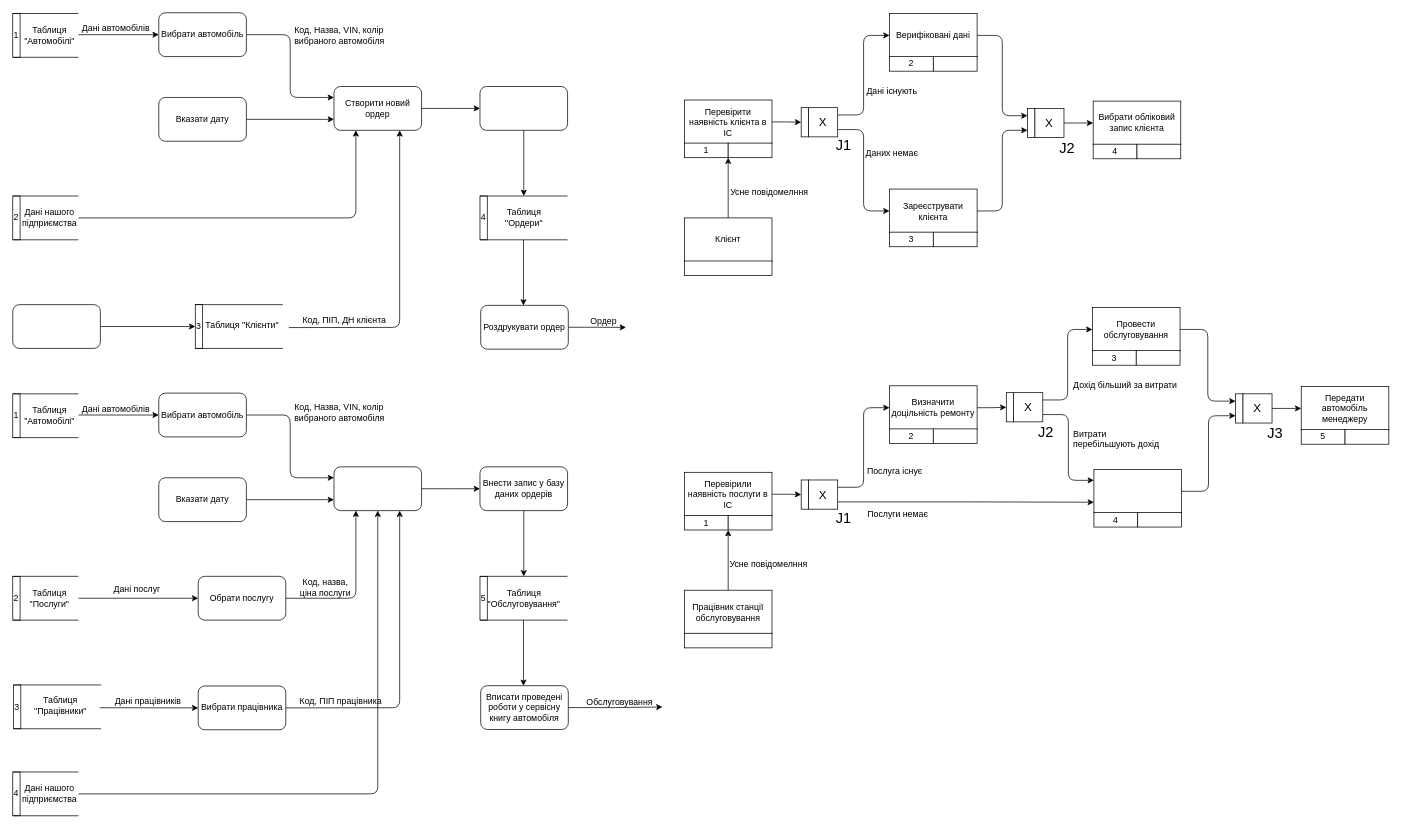
This 1402x829 diagram has some shape labels left out. The box of each missing label's shape, as (x1, y1, x2, y2) in pixels:
Внести дані клієнта у базу даних: (12, 304, 100, 348)
Внести ордер у базу даних ордерів: (479, 86, 568, 130)
Не обслуговувати автомобіль: (1093, 469, 1182, 513)
Створити новий запис обслуговування: (333, 466, 422, 511)
